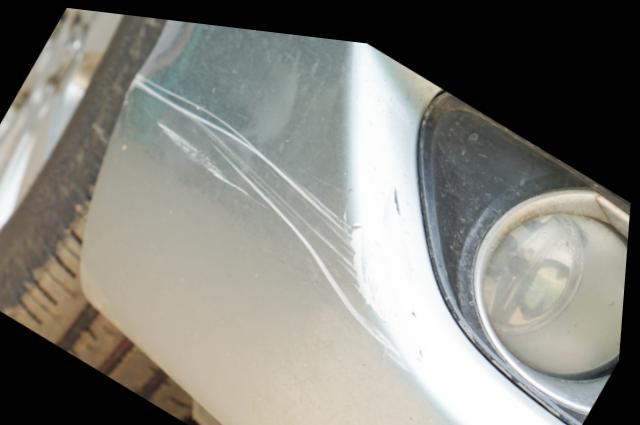scratch: (135, 67, 418, 361)
